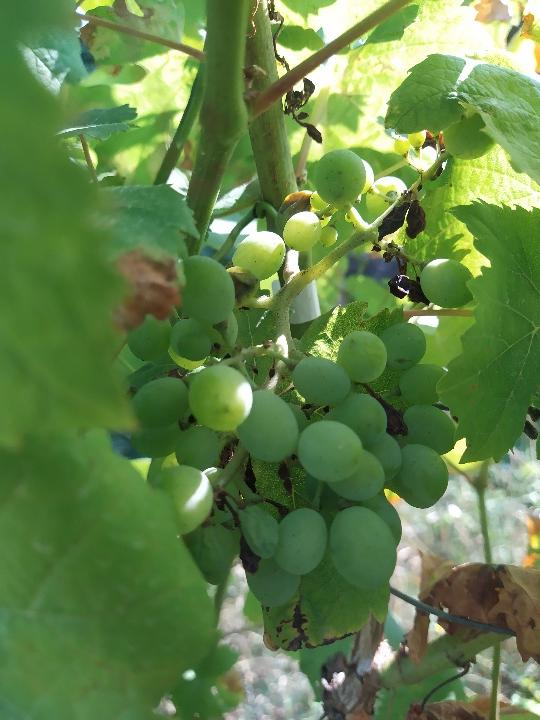grape: (126, 148, 473, 611)
